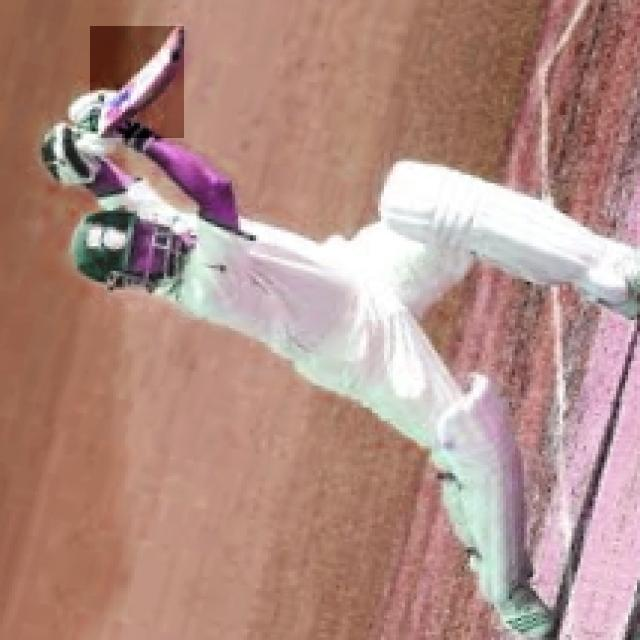bat: (89, 24, 182, 139)
toe: (166, 25, 185, 75)
